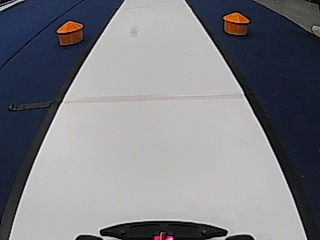granary: (55, 19, 84, 46), (222, 10, 250, 36)
